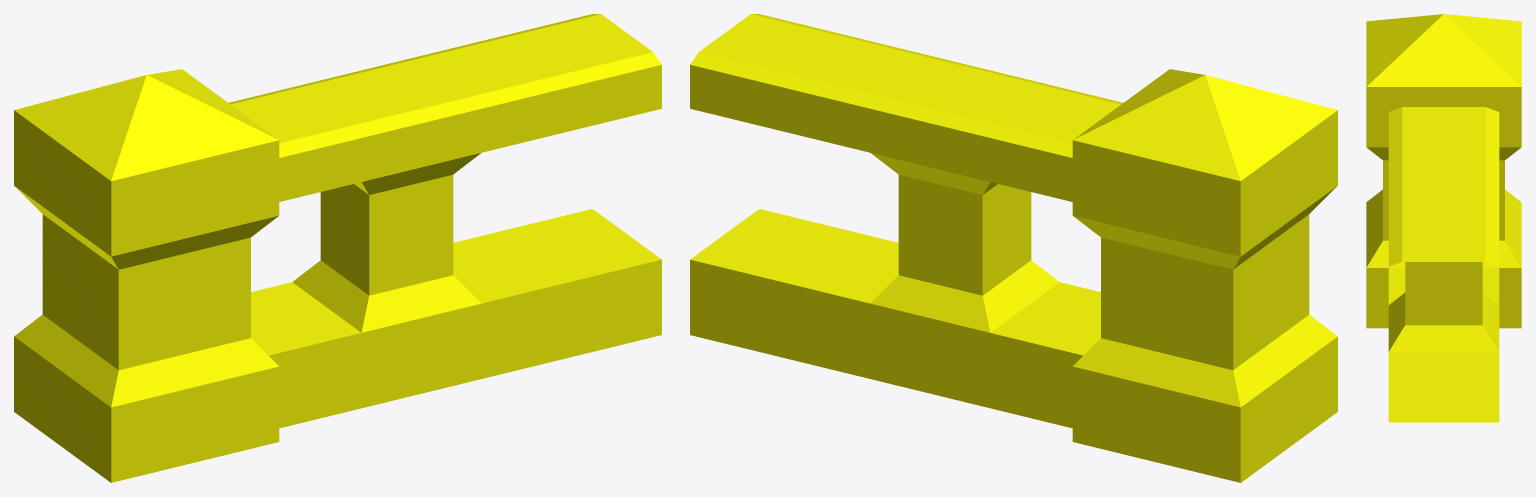
The model's file is kaykit-barrier-colum-half.glb.
3 renders of one model, left to right at view 1: azimuth 30°, elevation 25°; view 2: azimuth 150°, elevation 25°; view 3: azimuth 270°, elevation 25°, orthographic. The views are drawn at different scales.
Visible parts, largest first — view 1: barrier_colum_half; view 2: barrier_colum_half; view 3: barrier_colum_half.
Boxes of the visible parts, <box> form: barrier_colum_half: <box>14,14,661,482</box>; barrier_colum_half: <box>690,14,1337,482</box>; barrier_colum_half: <box>1366,14,1521,422</box>.
Bounding box in the file's own units: 2.35 × 1.4 × 0.7.
